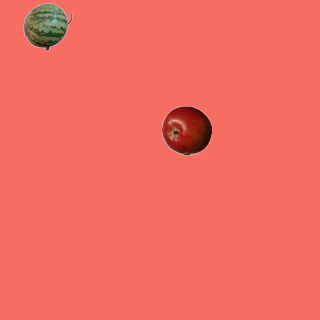Apple Braeburn: (161, 105, 211, 155)
Watermelon: (22, 1, 72, 51)
